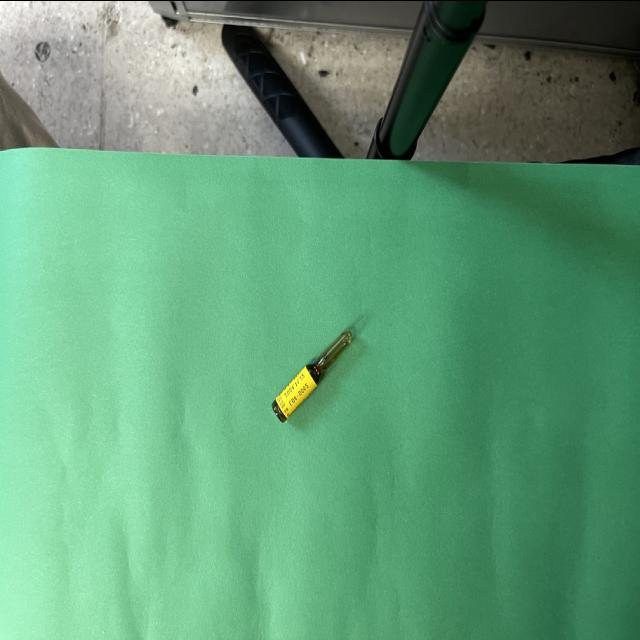Ampoules: (272, 328, 352, 422)
